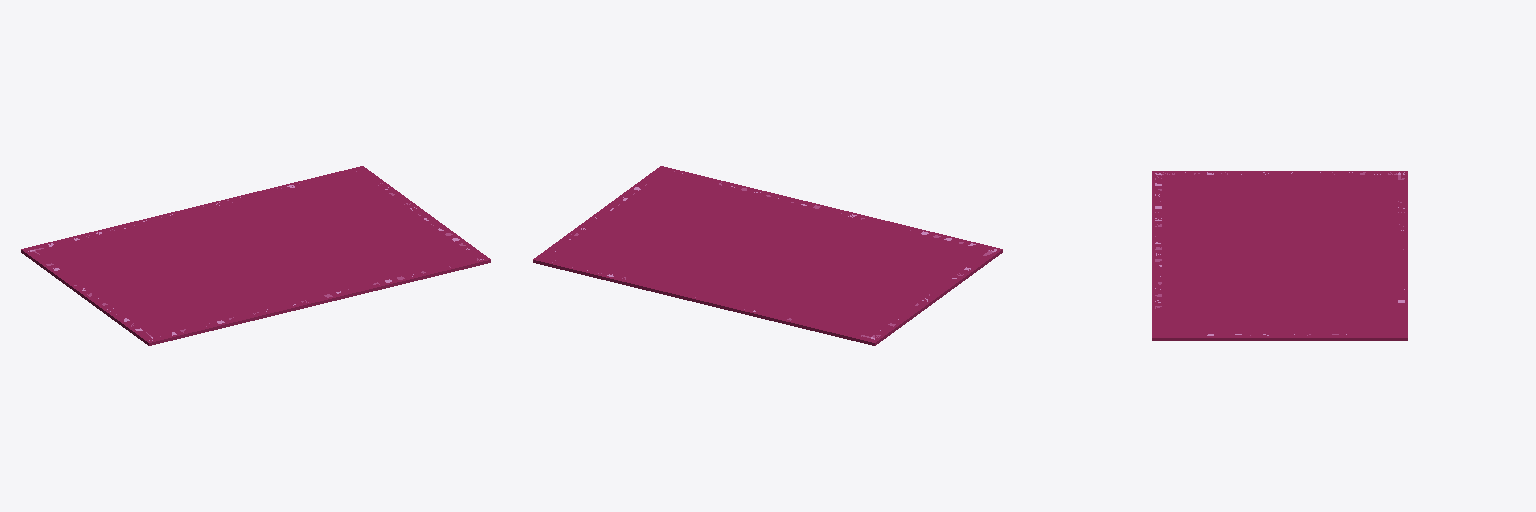
Rendered from Teppich02LargerPink.obj.
3 renders of one model, left to right at view 1: azimuth 30°, elevation 25°; view 2: azimuth 150°, elevation 25°; view 3: azimuth 270°, elevation 25°, orthographic.
Parts seen in each view (by area): view 1: Teppich02LargerPink; view 2: Teppich02LargerPink; view 3: Teppich02LargerPink.
Part boxes in pixels (x1,y1,x2,y2): Teppich02LargerPink: (21, 166, 490, 345); Teppich02LargerPink: (533, 166, 1002, 345); Teppich02LargerPink: (1152, 171, 1407, 340).
Bounding box in the file's own units: 7.12 × 0.0625 × 4.62.